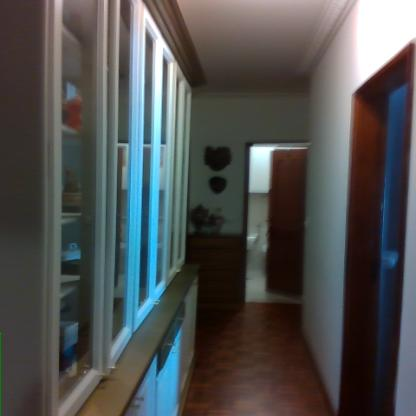semi: (234, 131, 328, 313)
